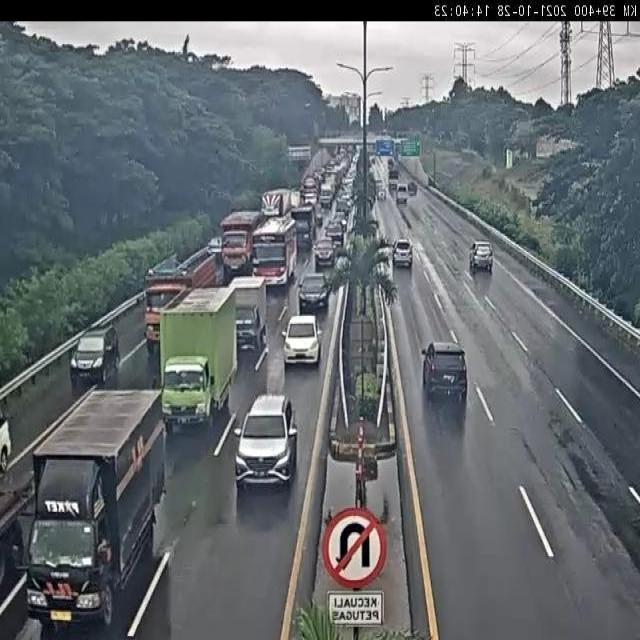Bus: (138, 244, 216, 361), (251, 217, 298, 293)
Car: (233, 383, 297, 496), (69, 322, 120, 395), (420, 340, 469, 408), (279, 312, 325, 367), (298, 269, 332, 322), (469, 240, 496, 277), (313, 241, 336, 270), (393, 240, 414, 266), (323, 220, 343, 247), (319, 187, 334, 210), (292, 327, 317, 340), (303, 191, 317, 206), (408, 181, 419, 196)
Truck: (25, 387, 166, 626), (157, 286, 236, 434), (227, 275, 269, 354), (220, 208, 262, 279), (288, 207, 316, 252), (396, 183, 408, 206)
